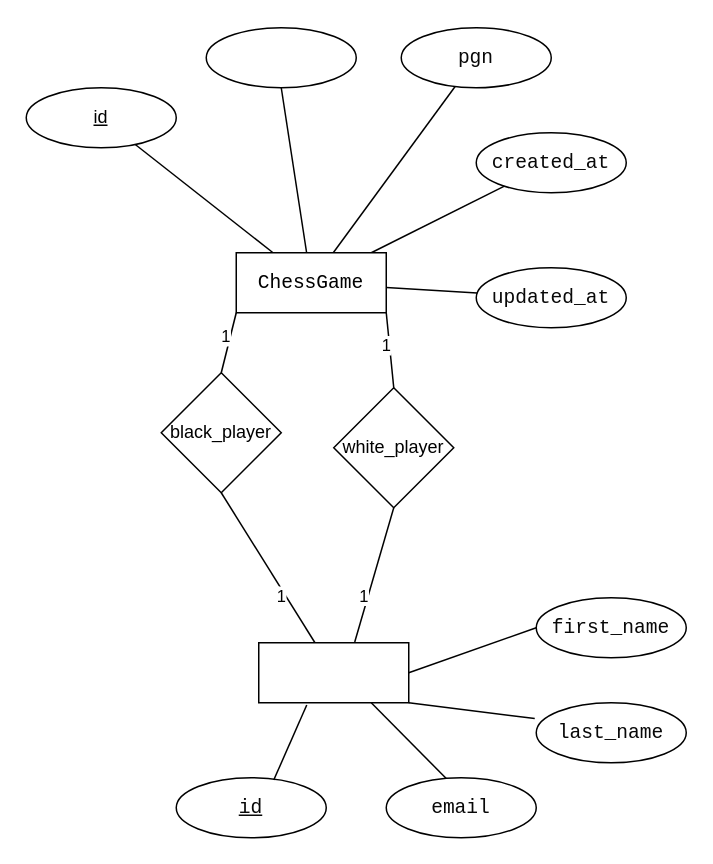
Image size: 713x864. Some labels were removed from this diagram. Here are the shapes that lost their labels. From the top down, the centre of each, then its label:
point (280, 57): status
point (333, 672): User
